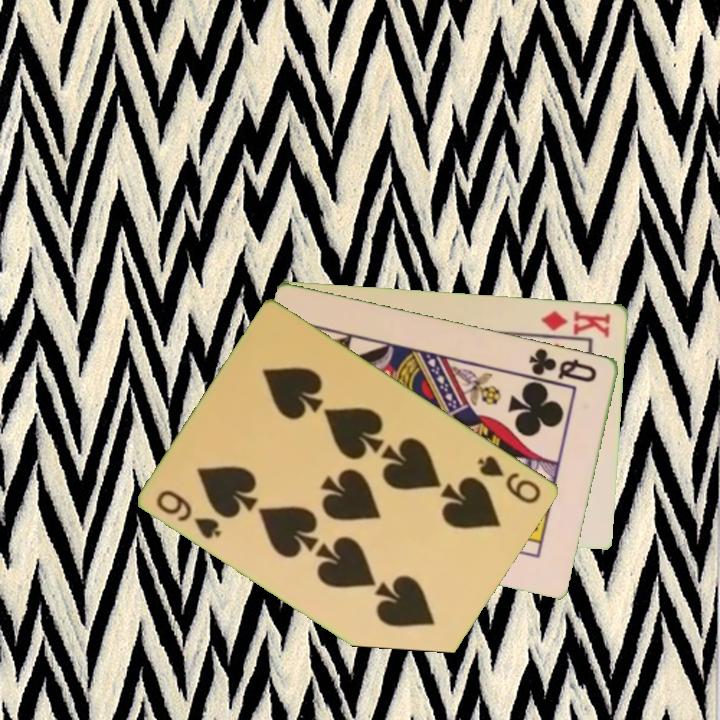9s: (153, 486, 225, 542), (474, 452, 545, 507)
Kd: (538, 306, 613, 340)
Qc: (526, 344, 601, 385)
